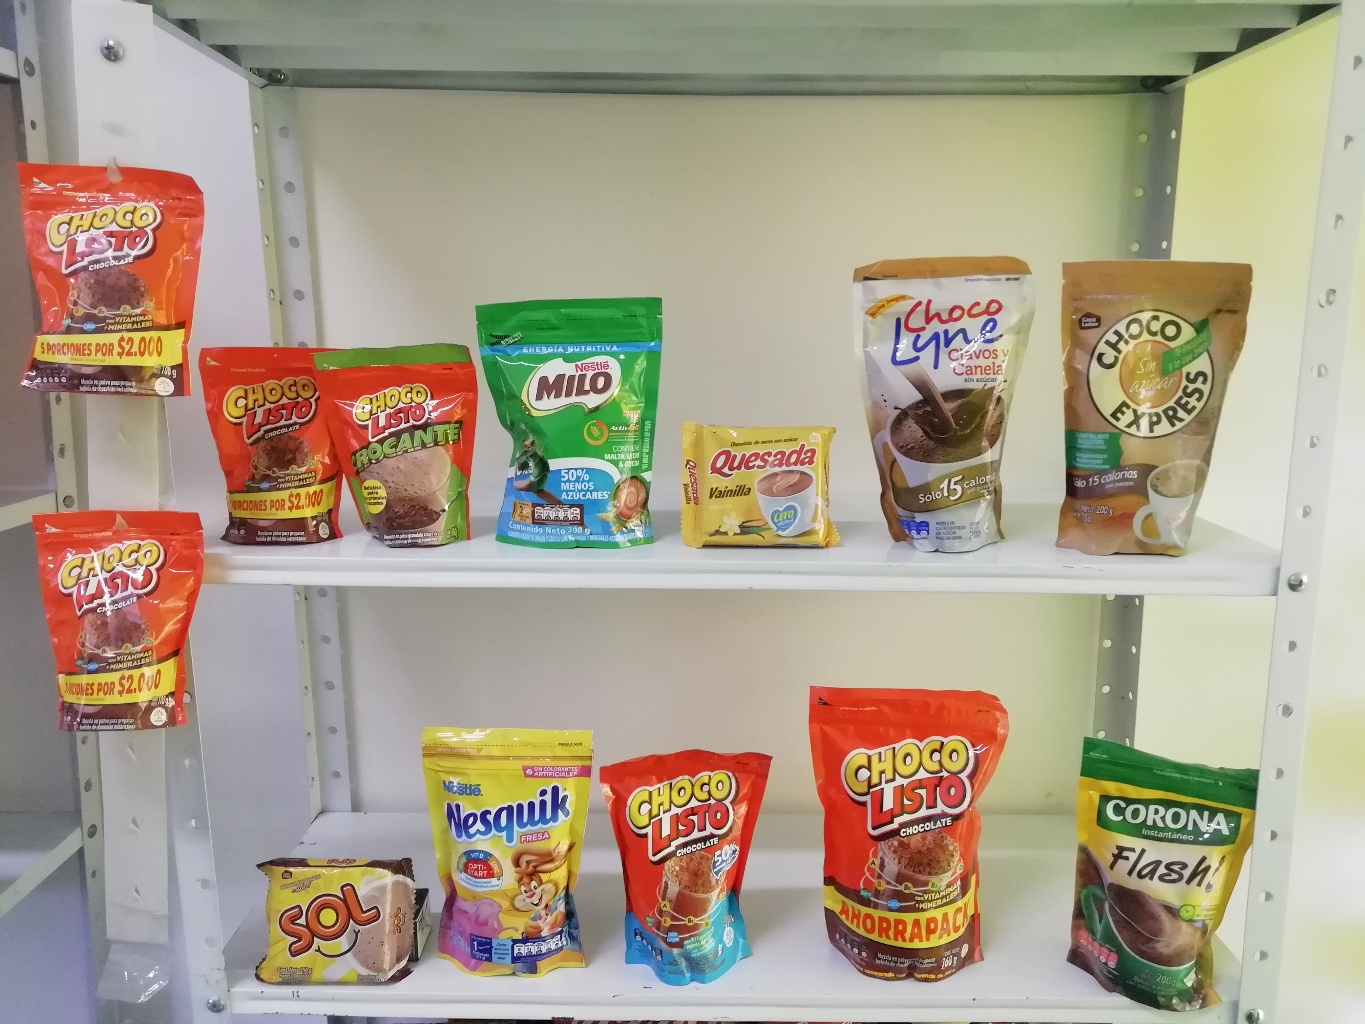COL0170102DYP10000: (310, 340, 484, 547)
COL0170103DYP10000: (13, 160, 204, 397)
COL0170103DYP36000: (806, 681, 1011, 989)
COL0170205DYP20000: (474, 295, 669, 547)
COL0170205DYP50000: (597, 746, 773, 984)
COL0170305DYP20000: (421, 719, 597, 978)
